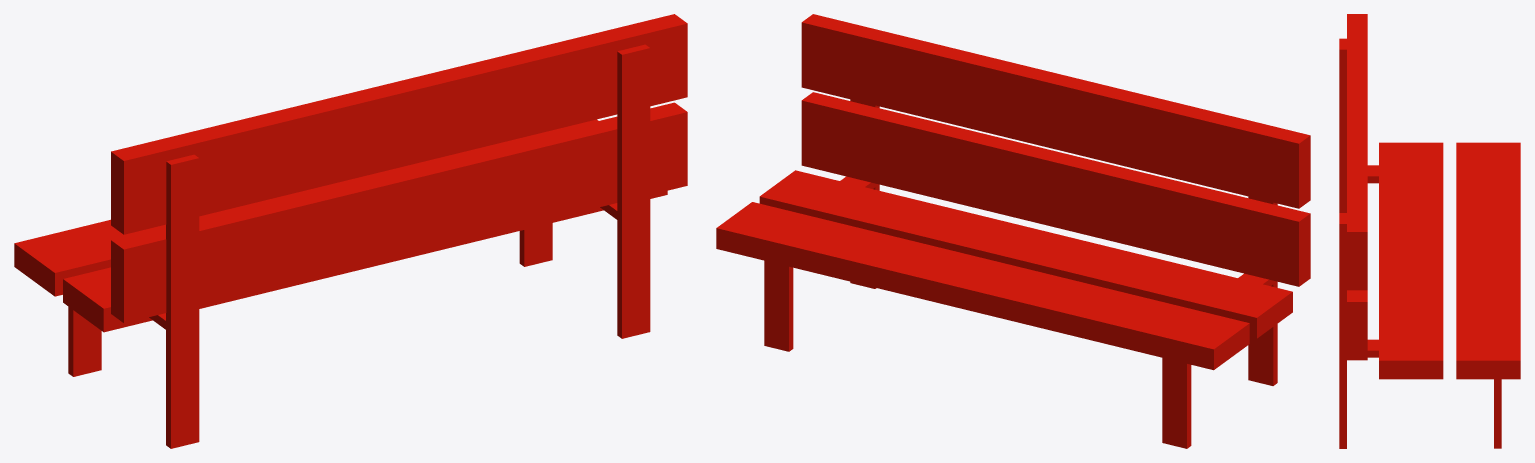
File: banco.fbx
3 renders of one model, left to right at view 1: azimuth 30°, elevation 25°; view 2: azimuth 150°, elevation 25°; view 3: azimuth 270°, elevation 25°, orthographic. The views are drawn at different scales.
Visible parts, largest first — view 1: sm_banco.008, sm_banco.001, sm_banco.005, sm_banco.004, sm_banco.003, sm_banco.002, sm_banco.007, sm_banco.006; view 2: sm_banco.008, sm_banco.001, sm_banco.003, sm_banco.002, sm_banco.007, sm_banco.006, sm_banco.005; view 3: sm_banco.003, sm_banco.002, sm_banco.008, sm_banco.004, sm_banco.005, sm_banco.001, sm_banco.006.
Boxes of the visible parts, <box> form: sm_banco.008: <box>111,14,687,234</box>; sm_banco.001: <box>111,102,687,323</box>; sm_banco.005: <box>149,154,199,448</box>; sm_banco.004: <box>600,44,650,338</box>; sm_banco.003: <box>14,119,598,296</box>; sm_banco.002: <box>63,190,667,332</box>; sm_banco.007: <box>68,306,101,376</box>; sm_banco.006: <box>519,223,552,266</box>; sm_banco.008: <box>801,14,1310,208</box>; sm_banco.001: <box>801,92,1310,286</box>; sm_banco.003: <box>716,202,1249,370</box>; sm_banco.002: <box>759,170,1292,338</box>; sm_banco.007: <box>1162,358,1191,448</box>; sm_banco.006: <box>764,260,793,351</box>; sm_banco.005: <box>1238,196,1277,385</box>; sm_banco.003: <box>1456,142,1520,379</box>; sm_banco.002: <box>1379,142,1443,379</box>; sm_banco.008: <box>1347,14,1367,290</box>; sm_banco.004: <box>1339,213,1378,448</box>; sm_banco.005: <box>1339,38,1378,212</box>; sm_banco.001: <box>1347,290,1367,360</box>; sm_banco.006: <box>1494,379,1501,448</box>.
Bounding box in the file's own units: 200 × 99.88 × 70.32.
